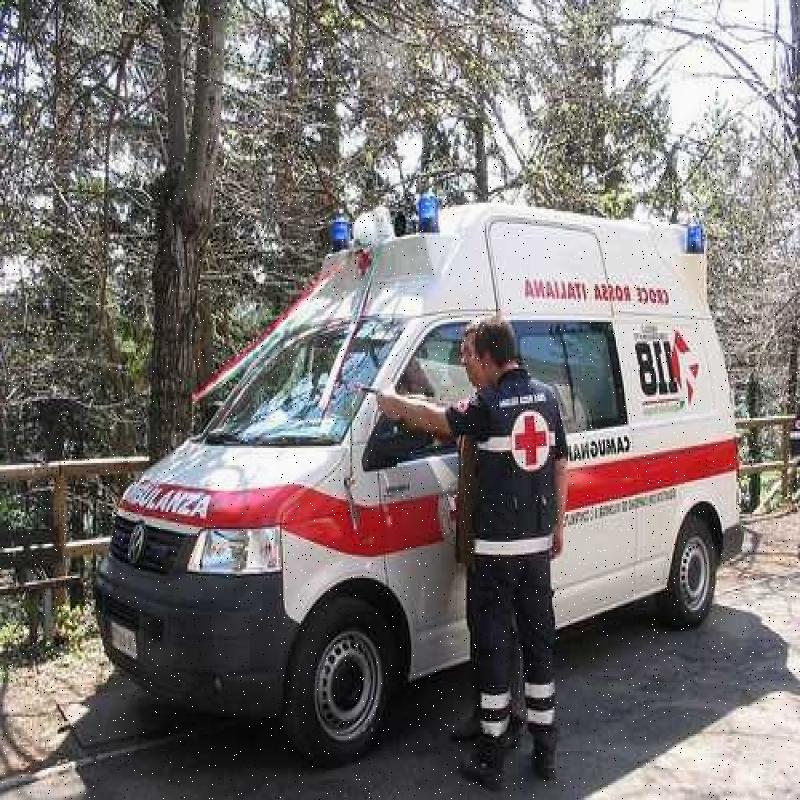AmbulanceSiren: (409, 178, 454, 244), (324, 200, 351, 262)
